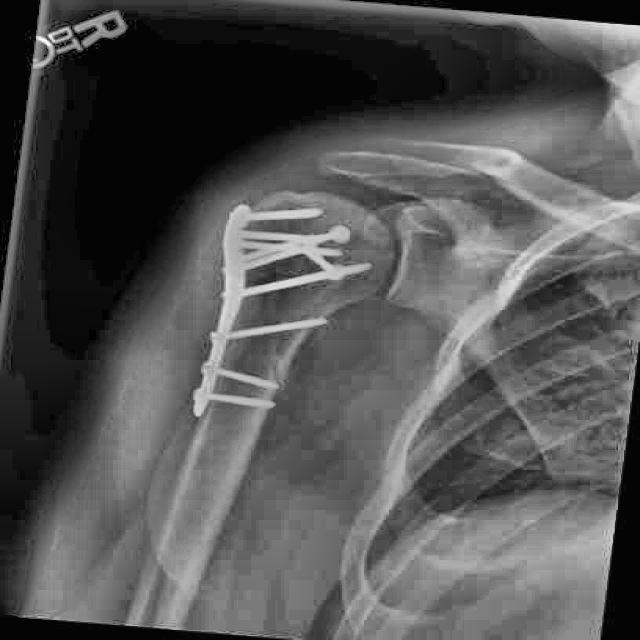shoulder fracture: (239, 326, 302, 401)
